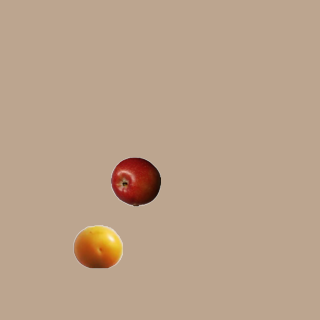Apple Braeburn: (110, 156, 160, 206)
Cherry Wax Yellow: (72, 221, 122, 271)
